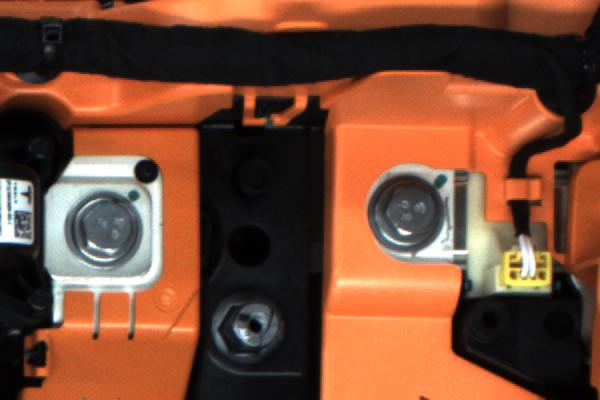nut_b: (361, 167, 455, 261), (57, 186, 152, 279)
